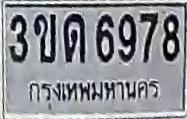3: (8, 14, 28, 62)
6: (96, 14, 114, 62)
7: (140, 12, 158, 62)
8: (162, 14, 179, 60)
9: (118, 13, 136, 61)
A02: (33, 13, 56, 62)
A20: (63, 12, 86, 64)
BKK: (25, 77, 159, 110)
